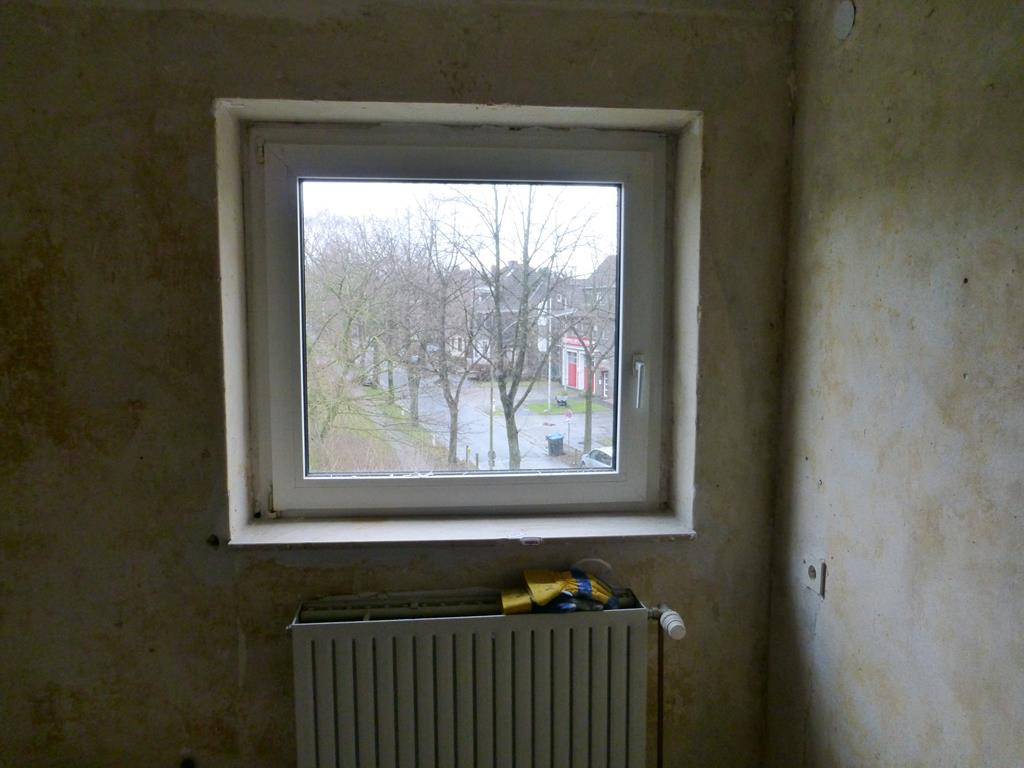windows: (242, 124, 671, 514)
